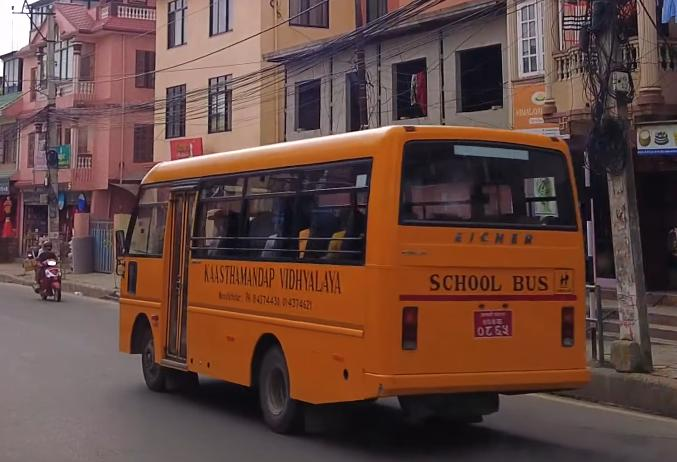school_bus: (111, 119, 594, 438)
scooter: (31, 253, 66, 301)
